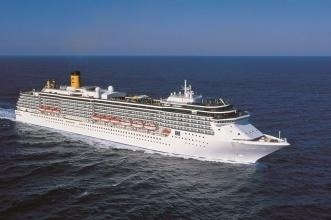youlun: (9, 72, 294, 165)
